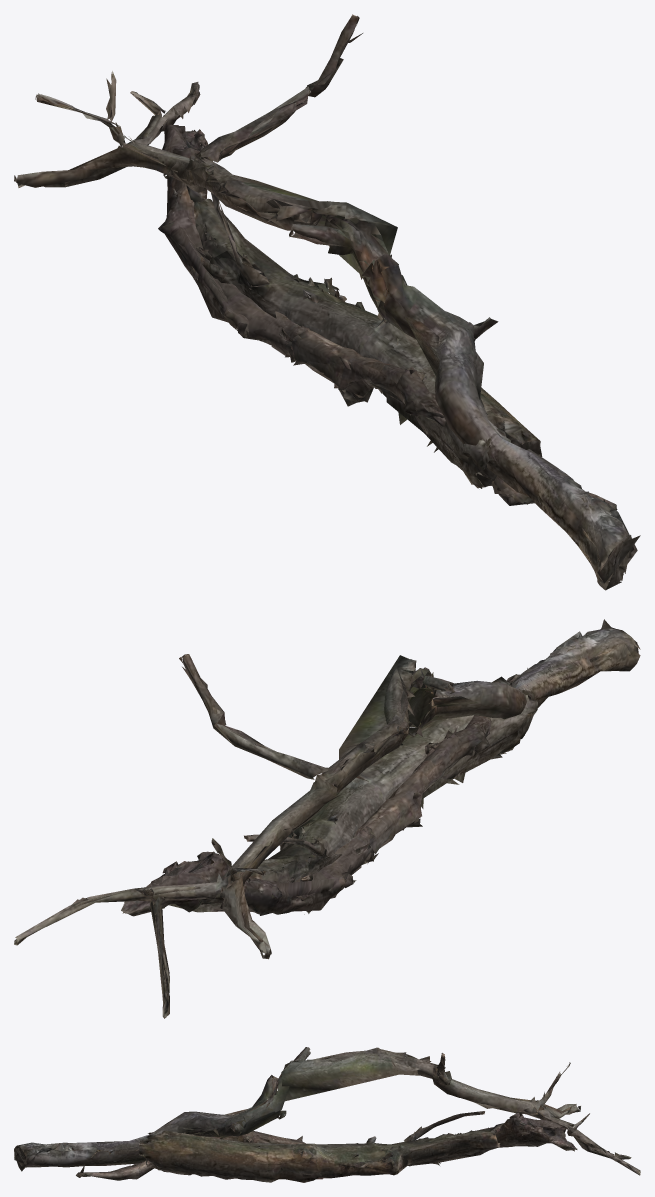
Rendered from dry_branches_medium_01.glb.
3 views of the same model, one above another, from view 1: azimuth 30°, elevation 25°; view 2: azimuth 150°, elevation 25°; view 3: azimuth 270°, elevation 25° (orthographic). The views are drawn at different scales.
Visible parts, largest first — view 1: dry_branches_medium_01_v0_near, dry_branches_medium_01_v2_near, dry_branches_medium_01_v1_near, dry_branches_medium_01_v0_far, dry_branches_medium_01_v1_far, dry_branches_medium_01_v2_far; view 2: dry_branches_medium_01_v0_near, dry_branches_medium_01_v1_near, dry_branches_medium_01_v2_near, dry_branches_medium_01_v0_far, dry_branches_medium_01_v1_far, dry_branches_medium_01_v2_far; view 3: dry_branches_medium_01_v0_near, dry_branches_medium_01_v2_near, dry_branches_medium_01_v0_far, dry_branches_medium_01_v1_near, dry_branches_medium_01_v2_far, dry_branches_medium_01_v1_far.
Part boxes in pixels (x1=…): dry_branches_medium_01_v0_near: x1=14, y1=14, x2=634, y2=590; dry_branches_medium_01_v2_near: x1=186, y1=185, x2=542, y2=488; dry_branches_medium_01_v1_near: x1=158, y1=124, x2=616, y2=510; dry_branches_medium_01_v0_far: x1=19, y1=25, x2=640, y2=579; dry_branches_medium_01_v1_far: x1=167, y1=126, x2=617, y2=509; dry_branches_medium_01_v2_far: x1=194, y1=201, x2=540, y2=486; dry_branches_medium_01_v0_near: x1=15, y1=625, x2=640, y2=1018; dry_branches_medium_01_v1_near: x1=121, y1=674, x2=524, y2=916; dry_branches_medium_01_v2_near: x1=244, y1=676, x2=537, y2=898; dry_branches_medium_01_v0_far: x1=14, y1=619, x2=634, y2=1007; dry_branches_medium_01_v1_far: x1=122, y1=668, x2=527, y2=913; dry_branches_medium_01_v2_far: x1=248, y1=696, x2=533, y2=897; dry_branches_medium_01_v0_near: x1=14, y1=1047, x2=640, y2=1173; dry_branches_medium_01_v2_near: x1=139, y1=1111, x2=503, y2=1182; dry_branches_medium_01_v0_far: x1=14, y1=1049, x2=640, y2=1175; dry_branches_medium_01_v1_near: x1=76, y1=1112, x2=577, y2=1180; dry_branches_medium_01_v2_far: x1=139, y1=1111, x2=500, y2=1179; dry_branches_medium_01_v1_far: x1=76, y1=1112, x2=576, y2=1179.
Size of the model in its own units: 0.3202 by 0.3423 by 1.3.
1 material, 1 textured.
